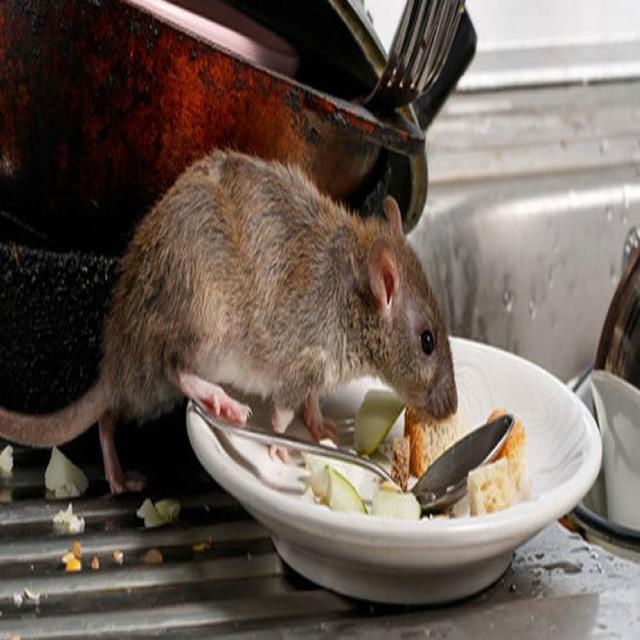rat: (80, 134, 463, 500)
